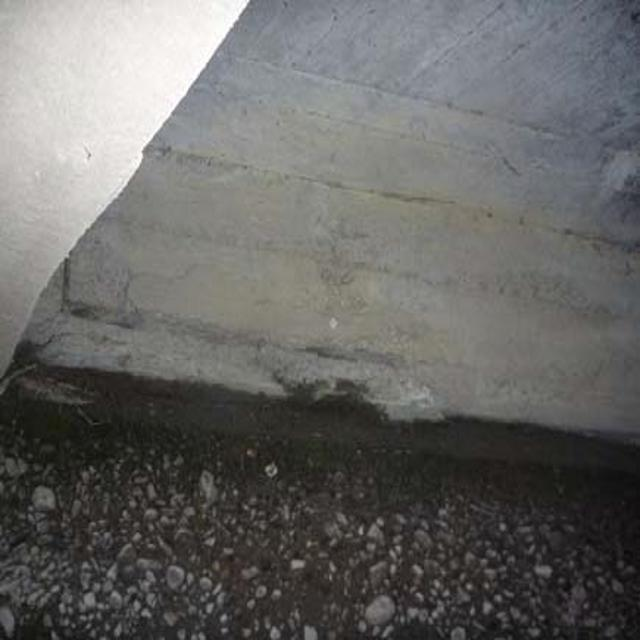spalling: (42, 267, 454, 412)
